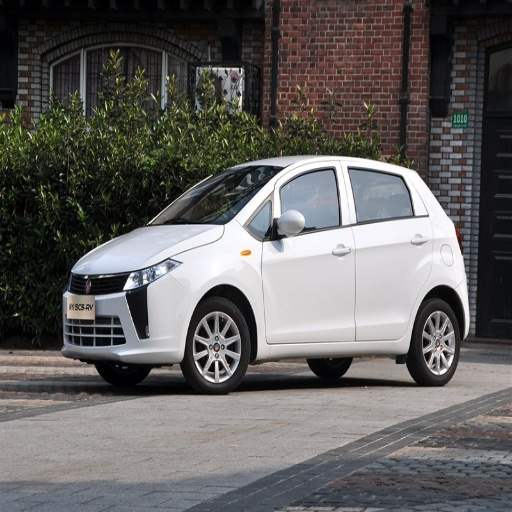front_bumper: (60, 263, 199, 360)
front_glass: (152, 165, 276, 225)
front_left_door: (262, 163, 355, 343)
